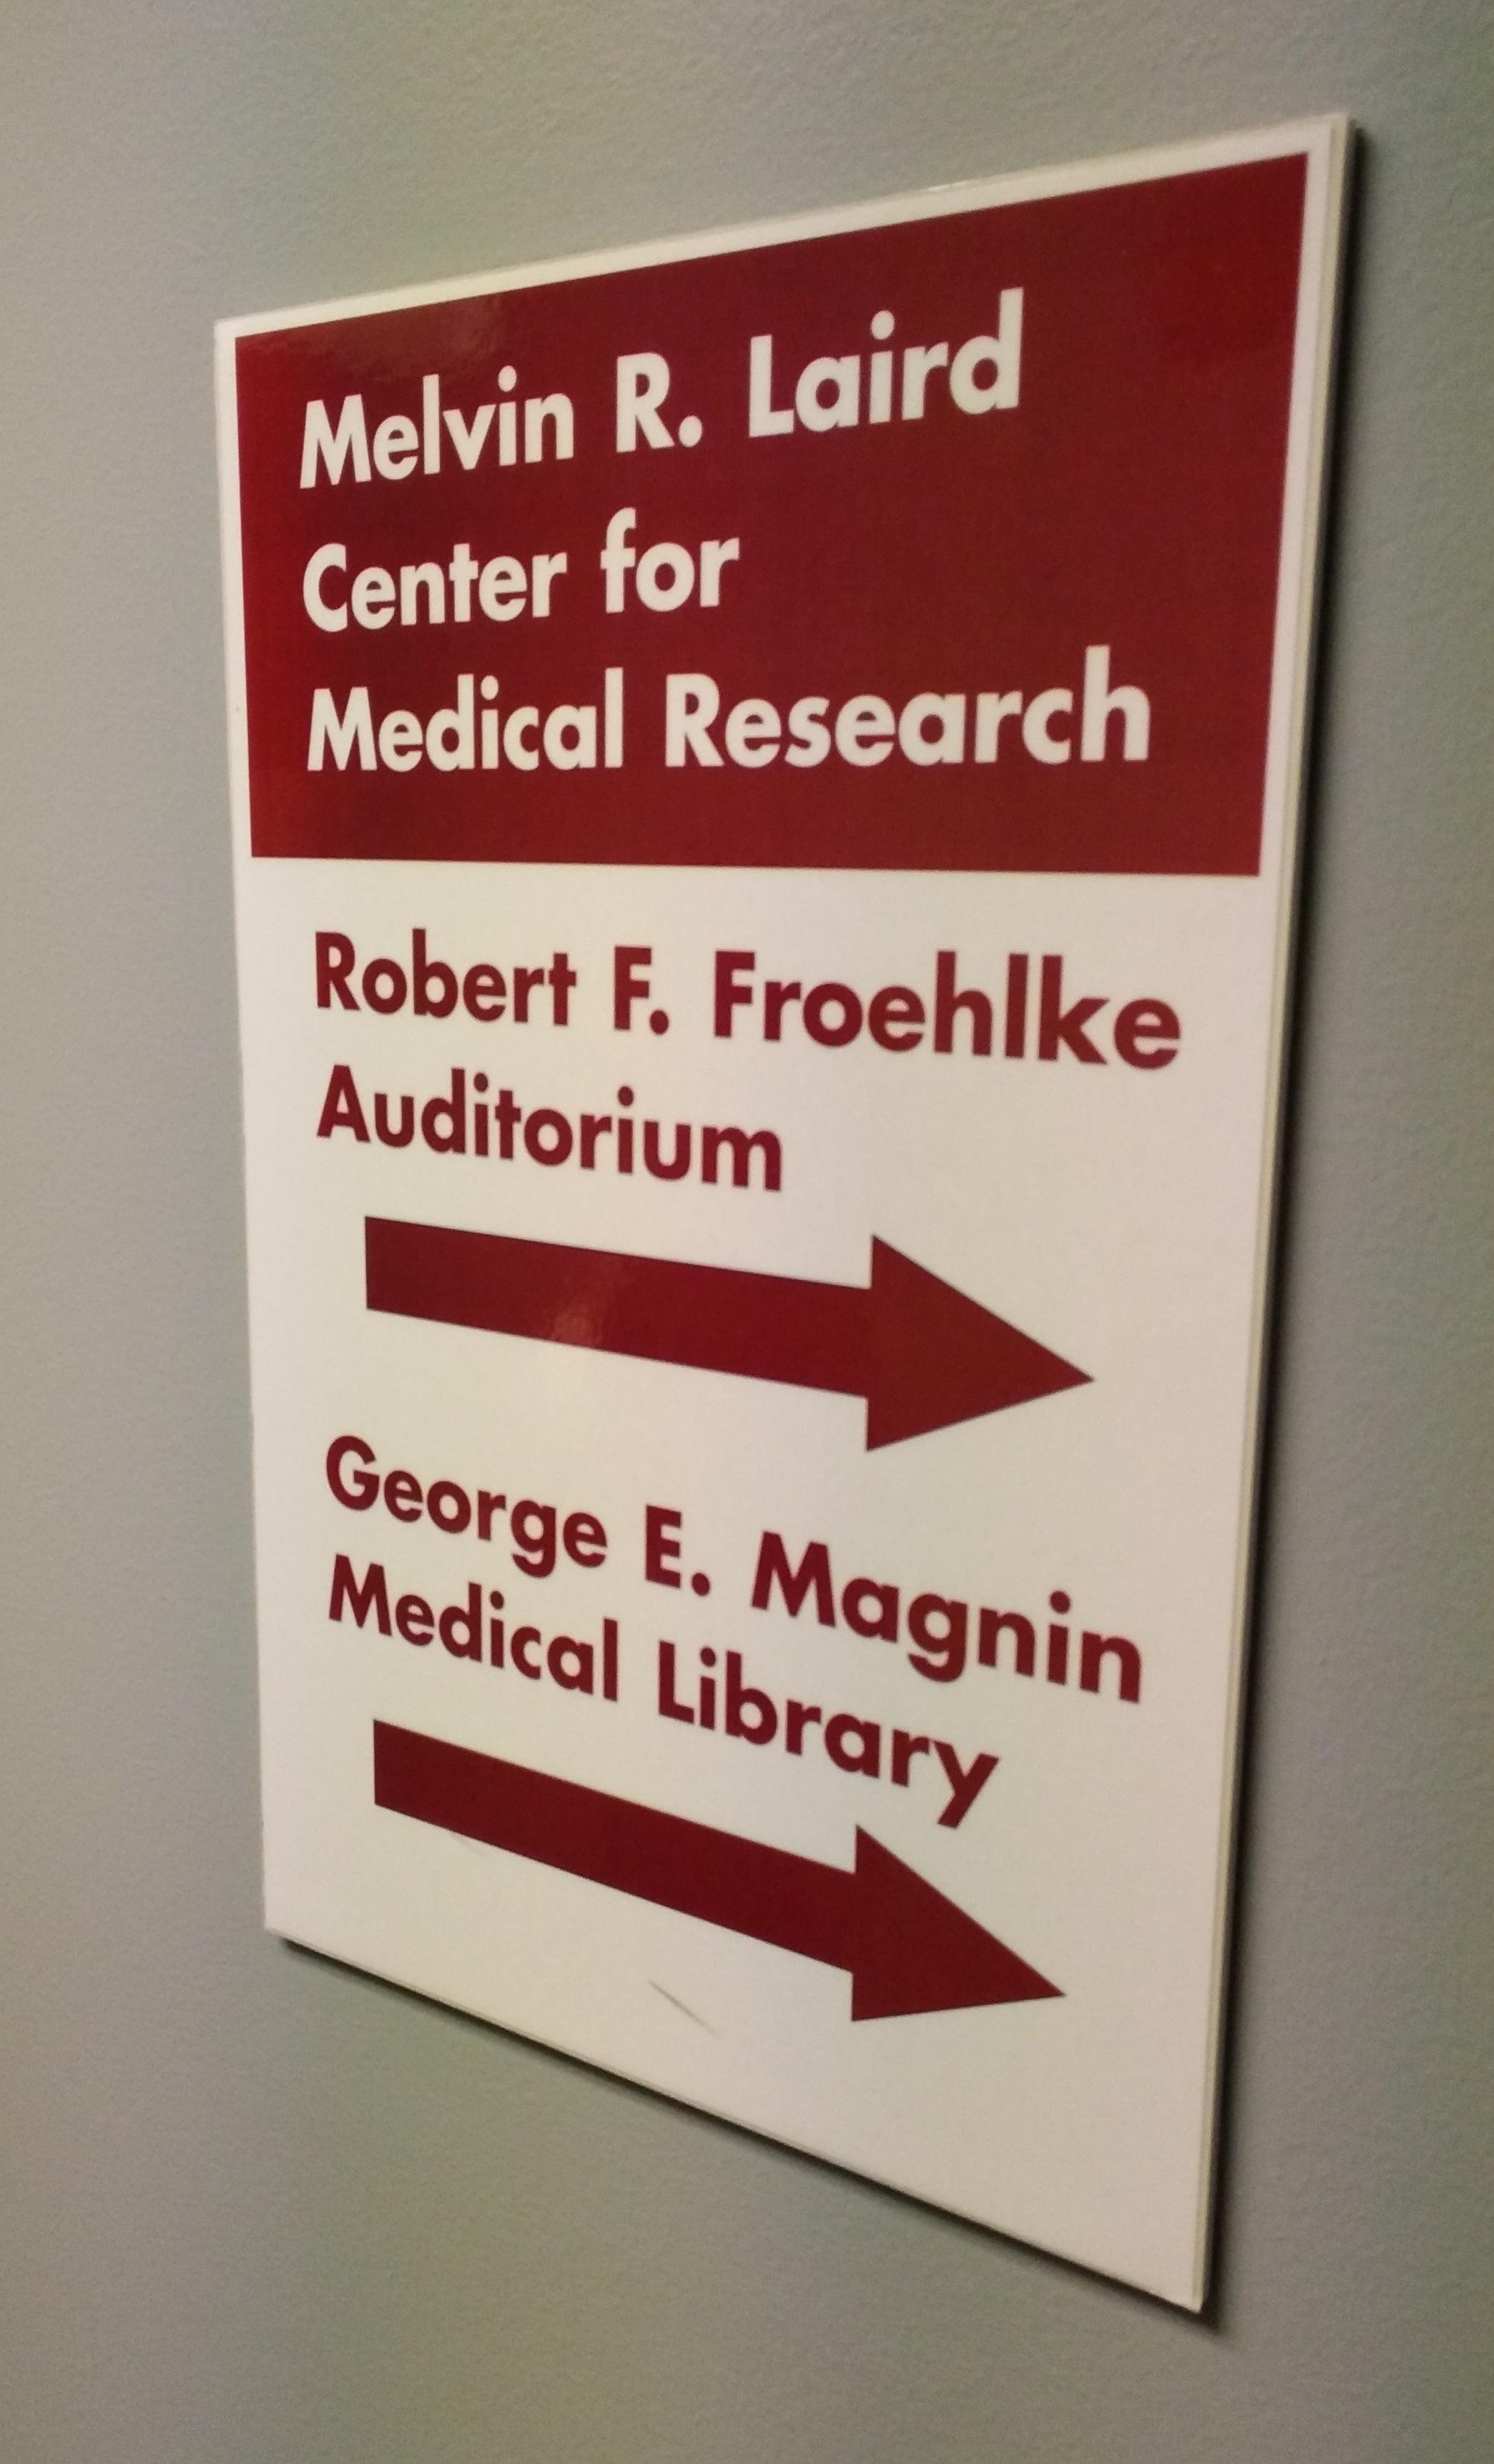sign: (211, 116, 1355, 2316)
